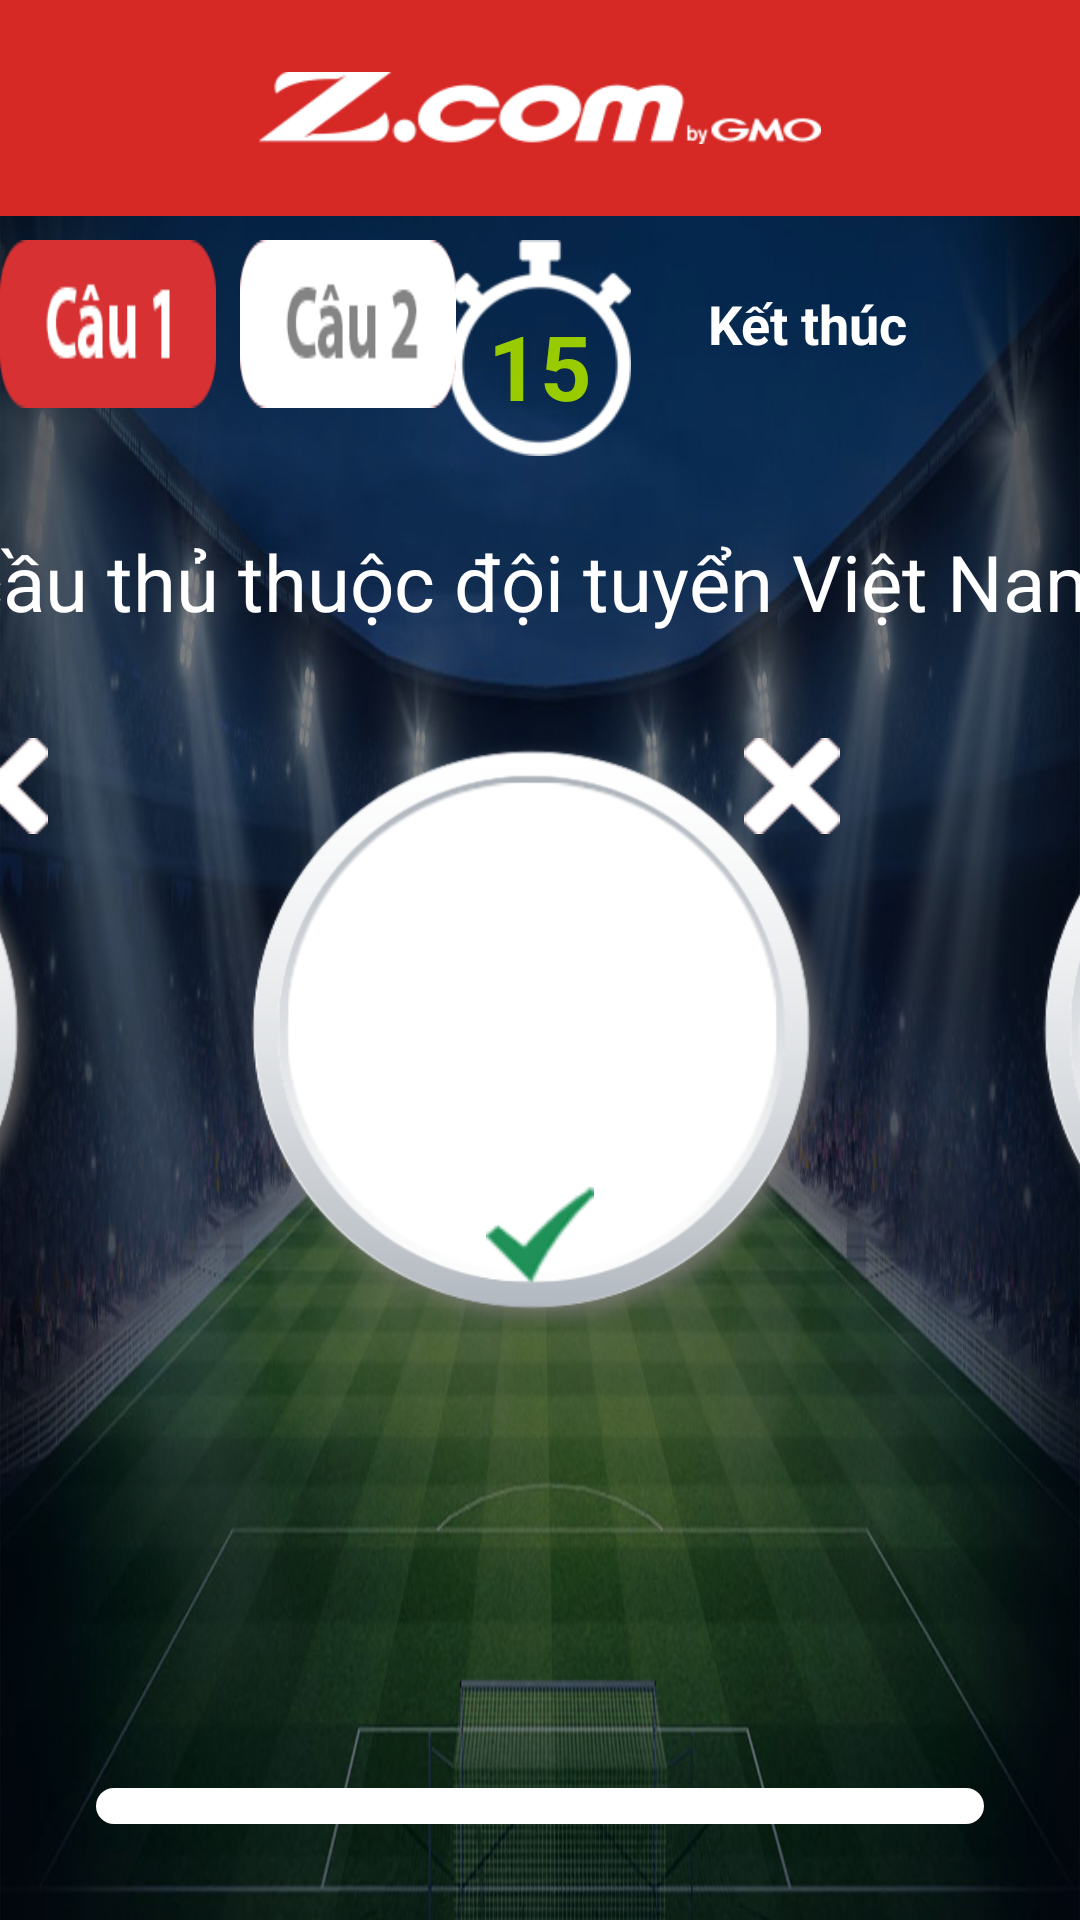

Where icons sit on this 1080×1920 app screen, as (x1, y1, x2, y2):
time countdown: (432, 240, 631, 456)
